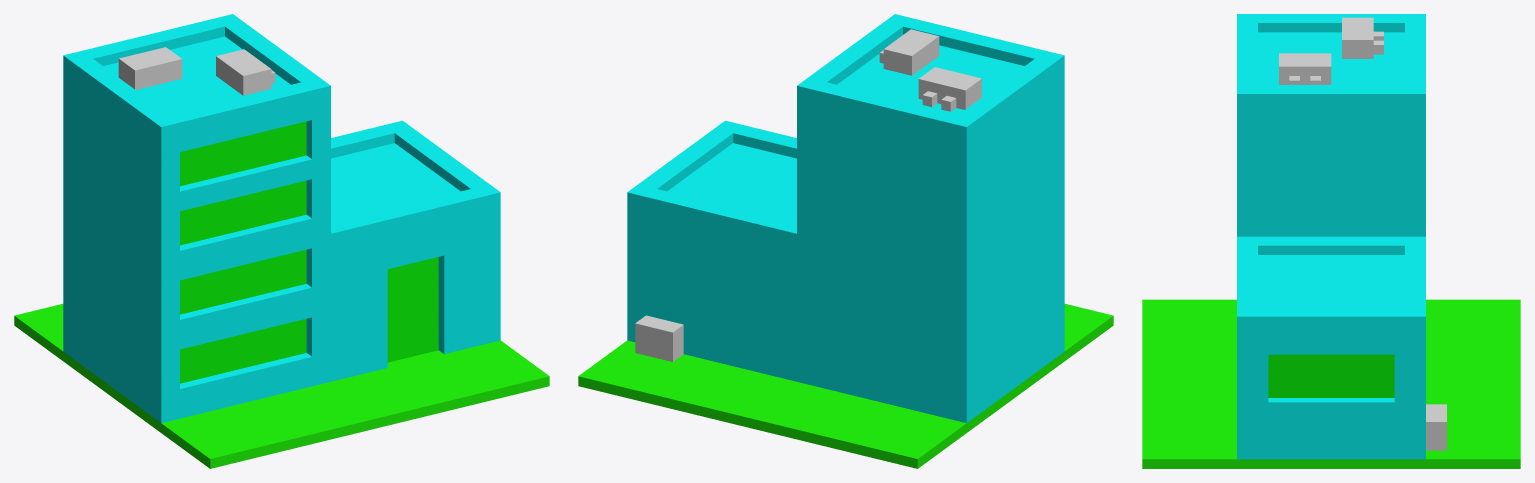
The picture shows the model from 3 angles, left to right: view 1: azimuth 30°, elevation 25°; view 2: azimuth 150°, elevation 25°; view 3: azimuth 270°, elevation 25°; orthographic projection. The views are drawn at different scales.
Visible parts, largest first — view 1: building; view 2: building; view 3: building.
Part boxes in pixels (box(x1,y1,x2,y2)): building: box(14, 14, 549, 468); building: box(578, 14, 1113, 468); building: box(1142, 14, 1520, 468).
Size of the model in its own units: 9 by 8 by 9.
